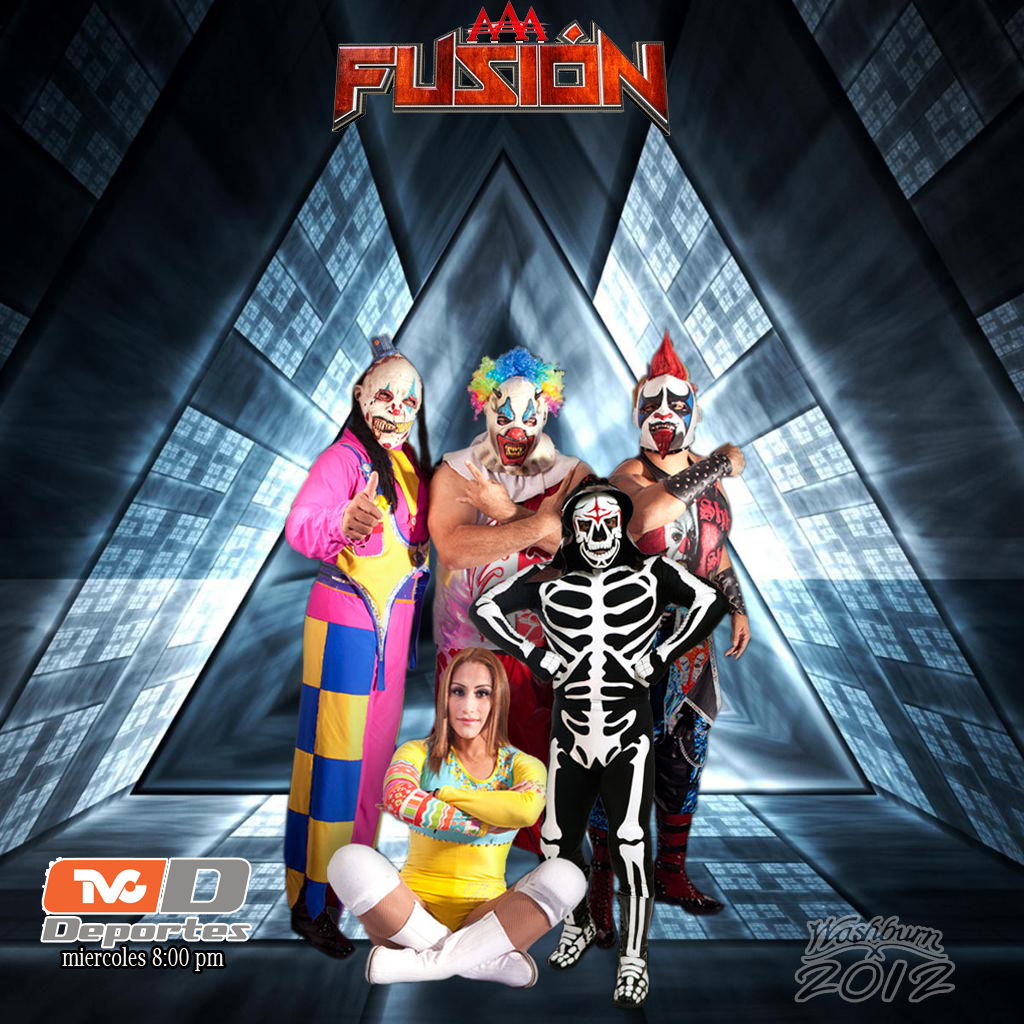Human-face: (447, 666, 488, 741)
